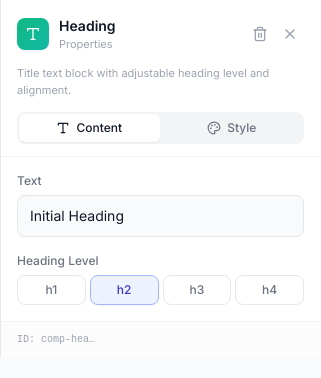
Test: PropertyPanel › should render the correct fields for a Heading component
Expected: the field labelled "Text" is shown, [17, 195, 304, 237]
Expected: the text "Heading Level" is shown, [17, 253, 99, 268]
// Switch to Style tab to see Alignment and Color
Click the button "Style": click(232, 128) [162, 114, 302, 142]
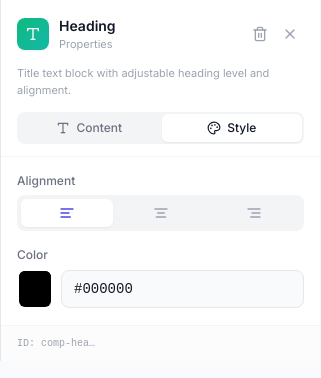
Result: the text "Alignment" is shown at [17, 173, 75, 188]
Result: the colour field labelled "Color" is shown at [17, 269, 53, 305]
